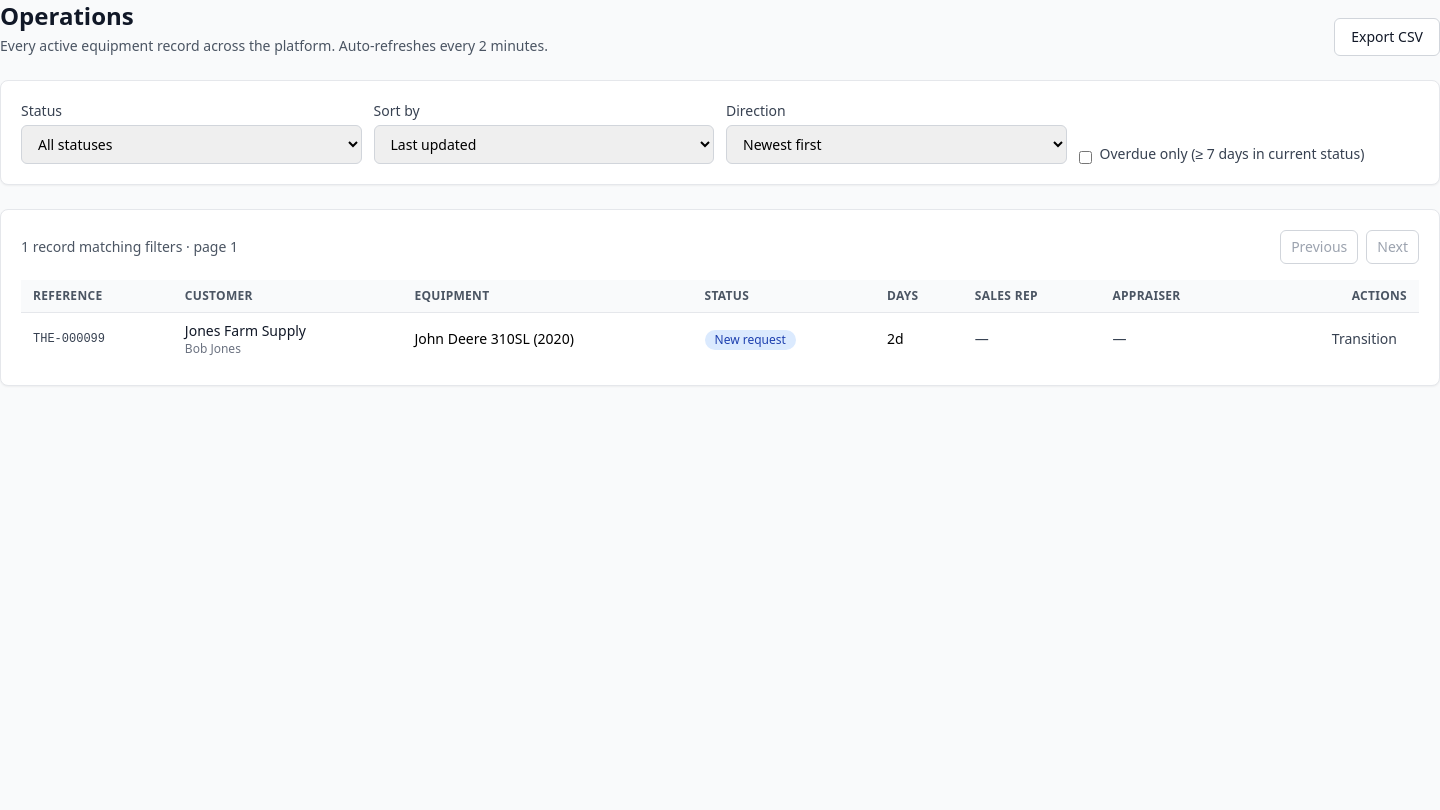
Test: AdminOperationsPage › opens the transition modal when Transition is clicked
Click the button "Transition" at (1364, 339), box [1322,323,1407,355]
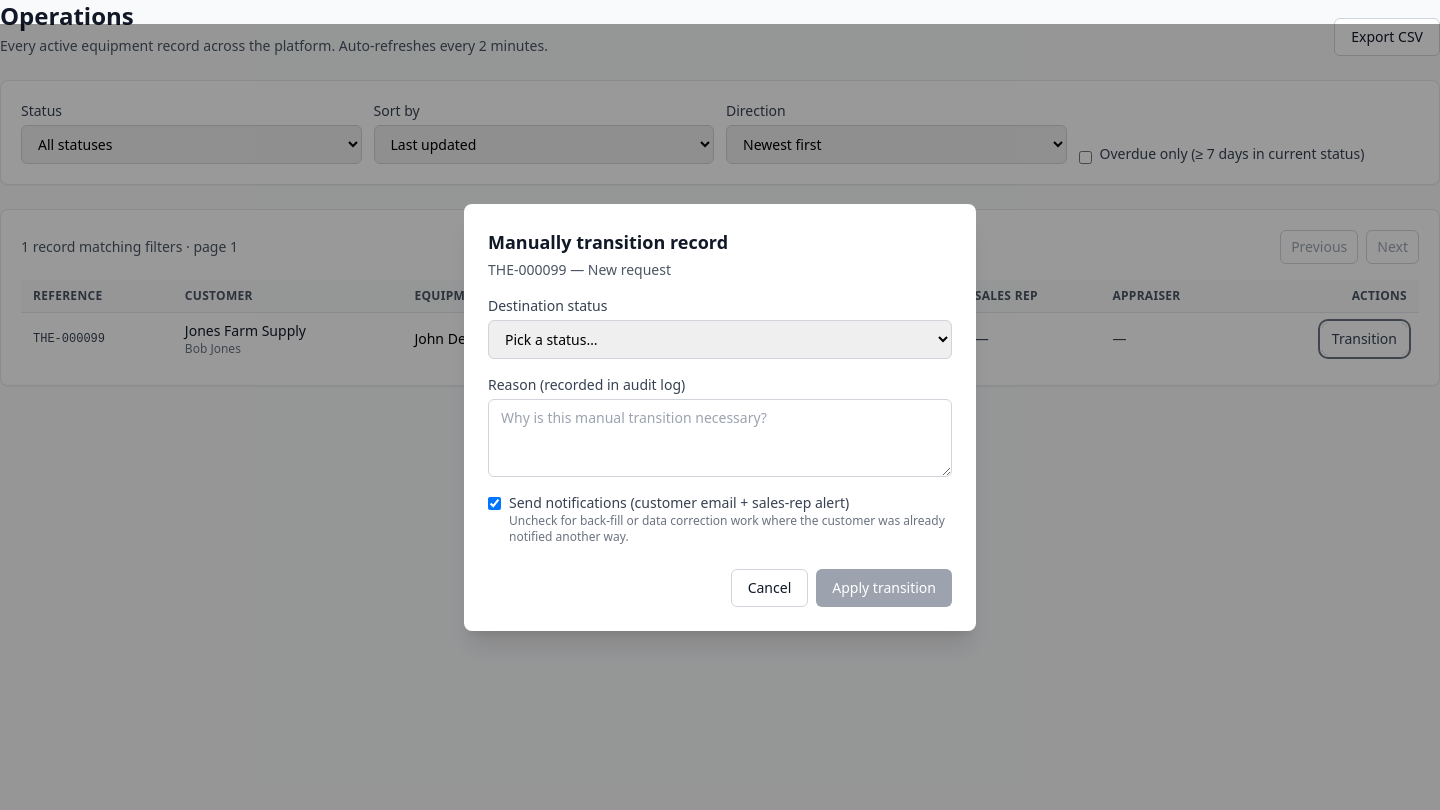
Expected: the dialog is shown
Expected: the heading "Manually transition record" is shown, [488,230,728,254]
